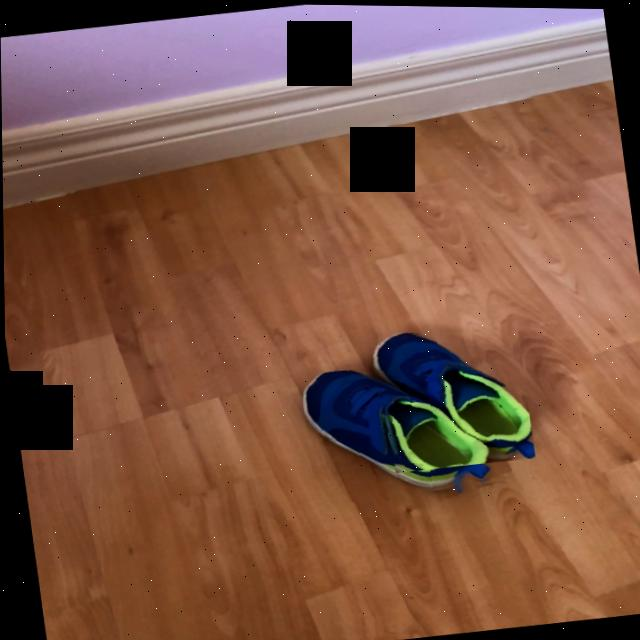shoe: (301, 361, 523, 489), (371, 334, 533, 467)
